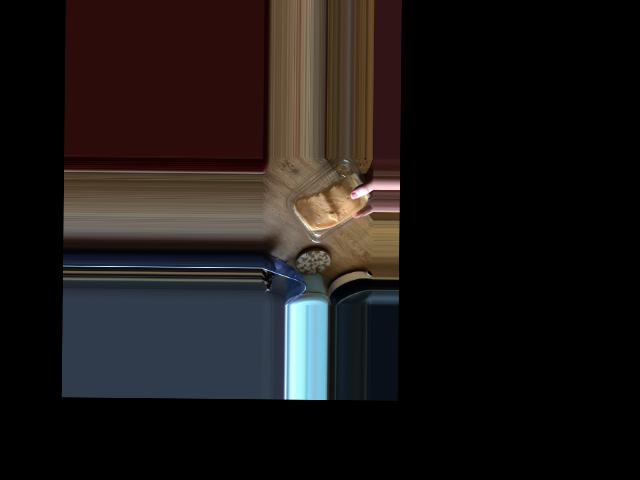cheese: (275, 159, 366, 250)
